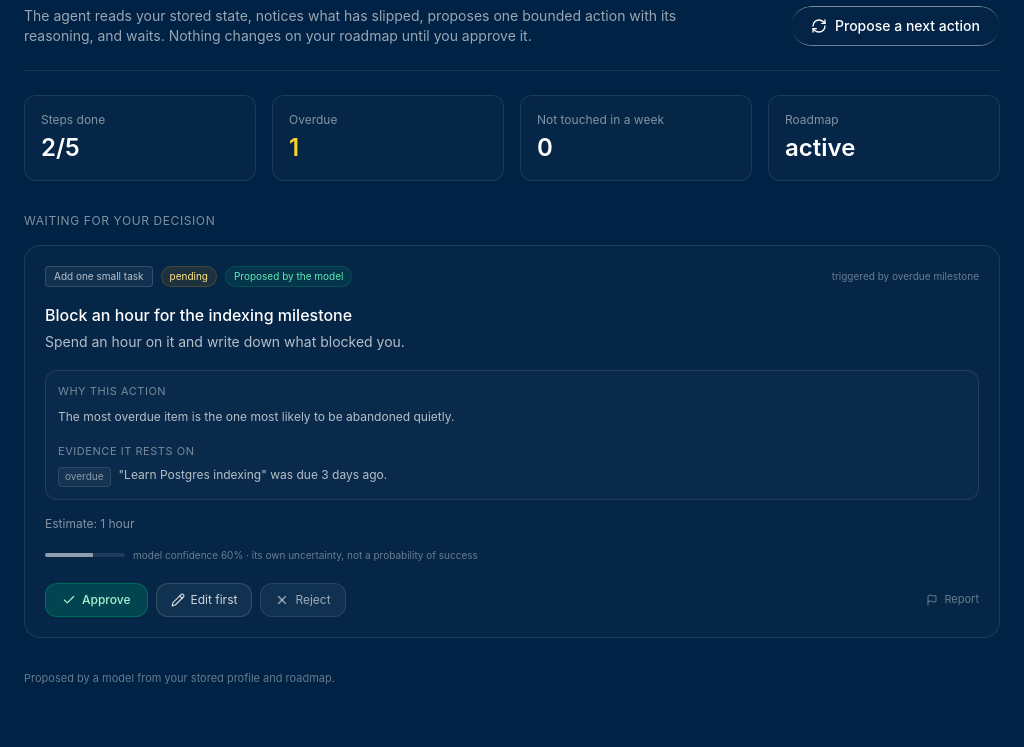
AgentPanel › reports exactly what changed after approval
(page scrolled)
What coordinates should you click on to do the following:
click the button "Approve"
I would click on:
 (96, 600)
Its box is 45,583 -> 148,617.
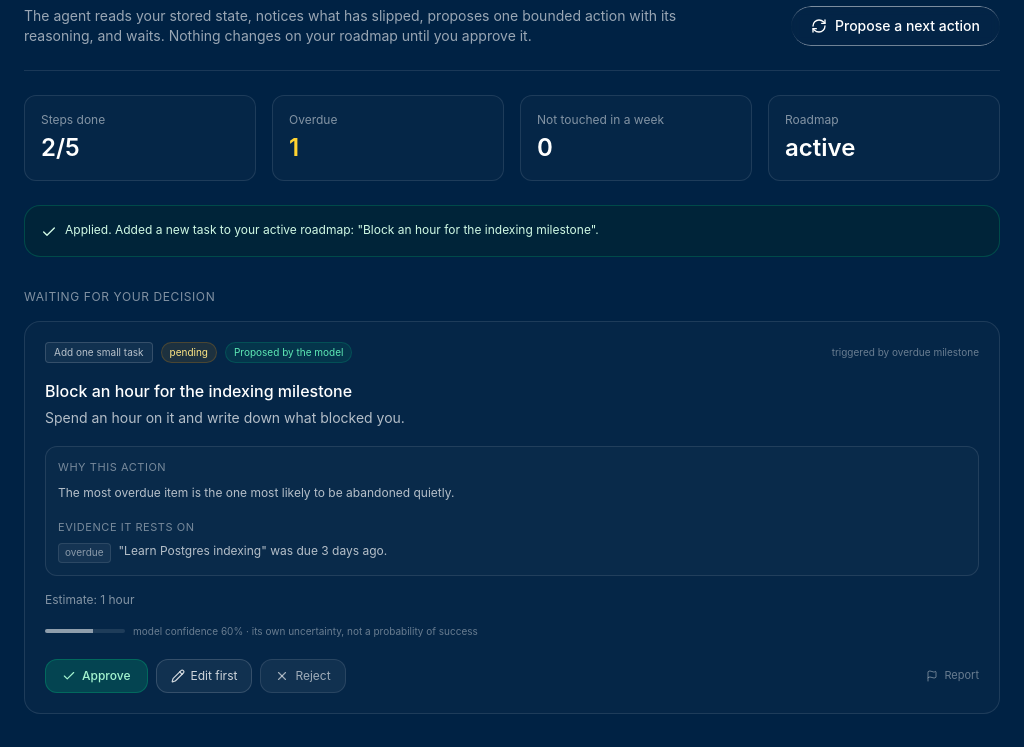
Result: the text "Added a new task to your active roadmap" is shown at 65,222 -> 599,237
